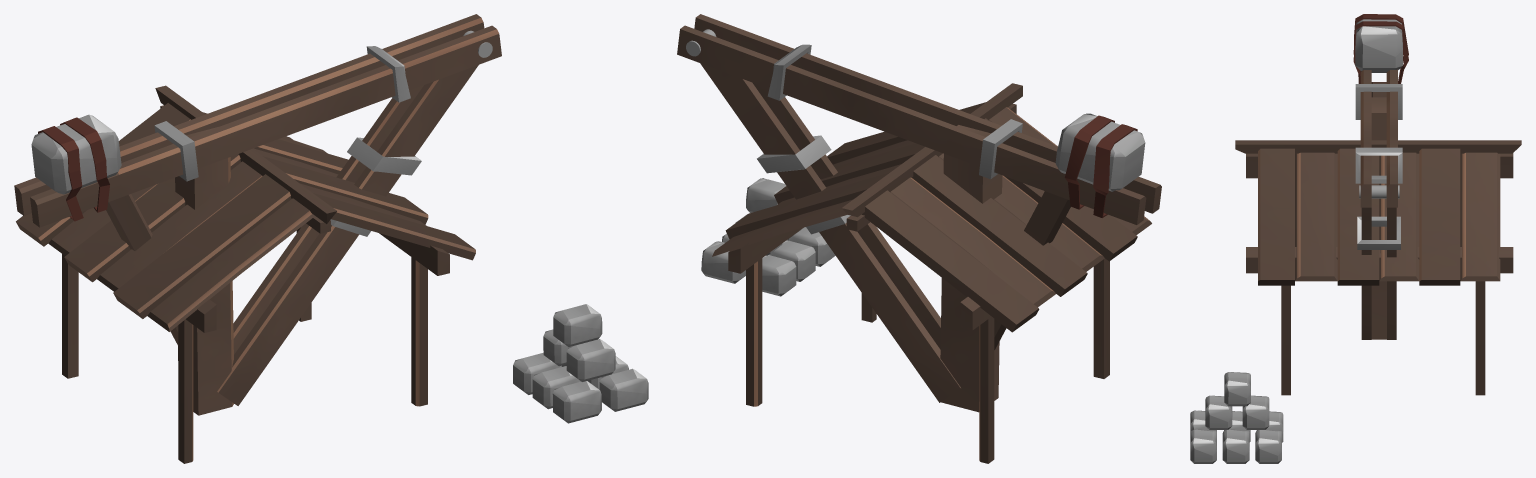
The model's file is winch_2lvl.fbx.
The picture shows the model from 3 angles, left to right: view 1: azimuth 30°, elevation 25°; view 2: azimuth 150°, elevation 25°; view 3: azimuth 270°, elevation 25°; orthographic projection. The views are drawn at different scales.
Visible parts, largest first — view 1: winch_2lvl; view 2: winch_2lvl; view 3: winch_2lvl.
Boxes of the visible parts, x1,y1,x2,y2 form: winch_2lvl: (14, 14, 648, 463); winch_2lvl: (677, 14, 1161, 463); winch_2lvl: (1190, 14, 1521, 463).
Size of the model in its own units: 6.49 by 3.8 by 4.35.
